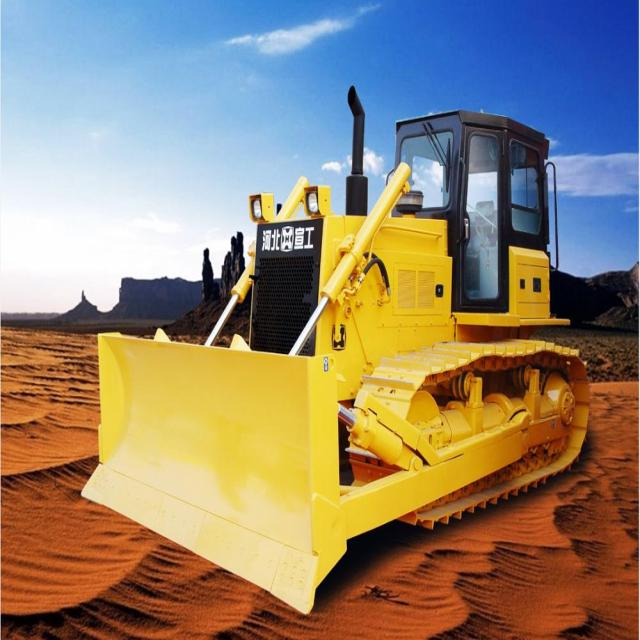Bulldozer: (83, 100, 609, 611)
